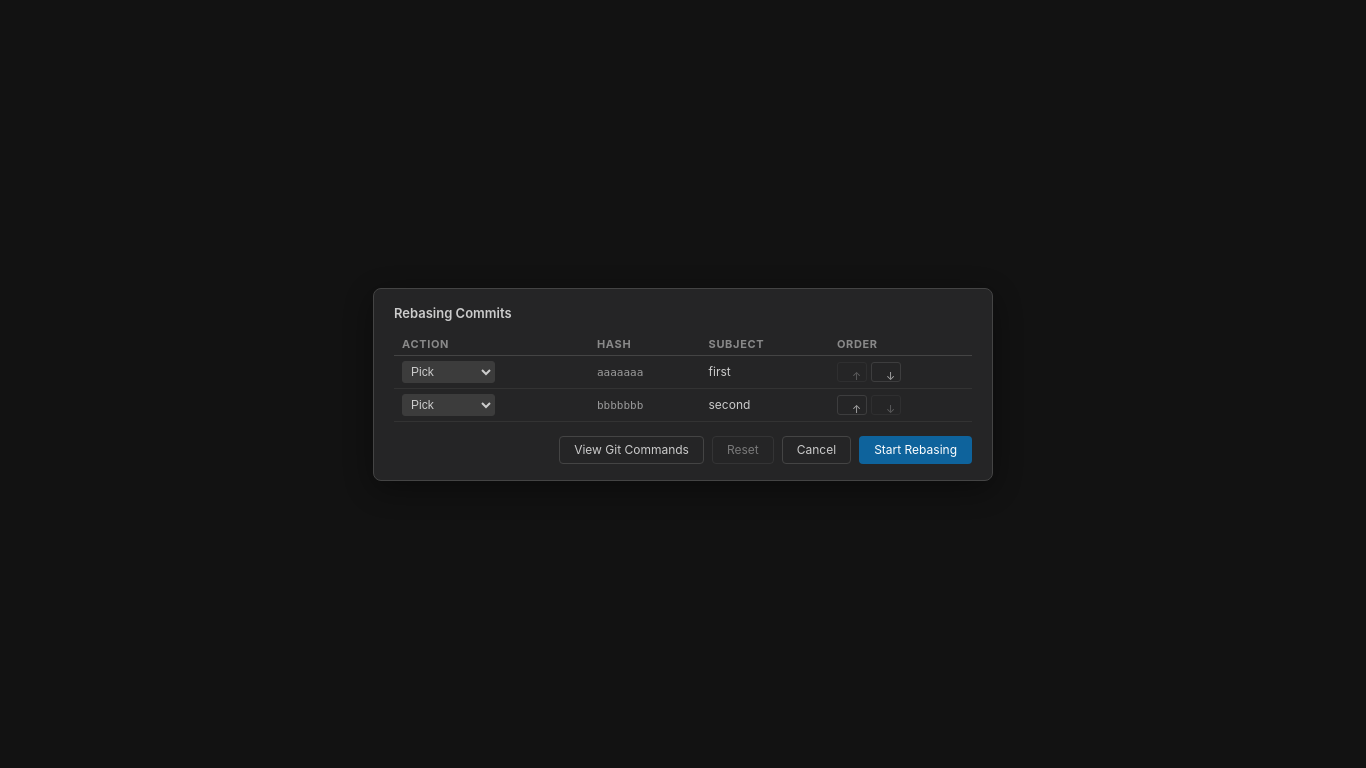
InteractiveRebaseDialog › previews the generated todo on request
expect the text "first" is shown: met, box 708,364 -> 731,379
Select "Drop" in the dropdown named "Action for bbbbbbb" at x=448, y=404, box 402,394 -> 495,416
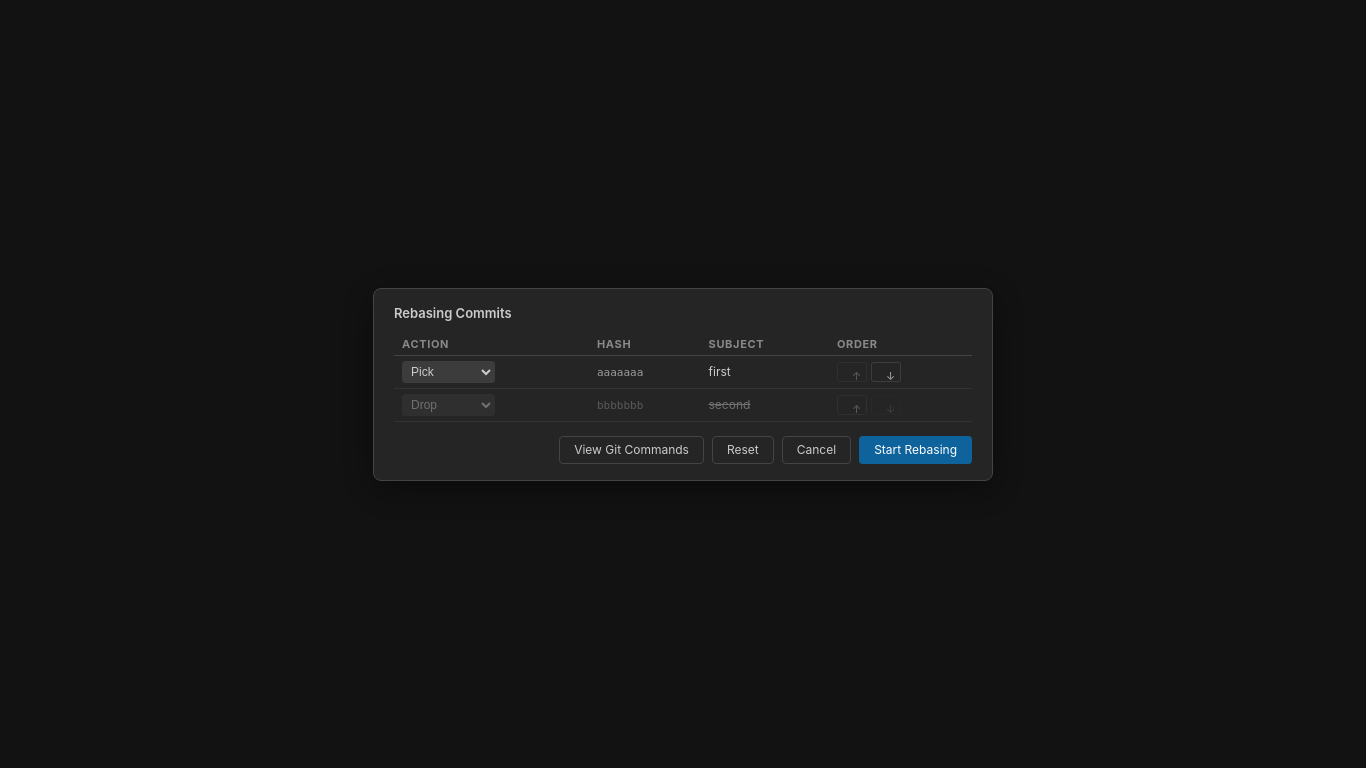
Click the button "View Git Commands" at x=632, y=450, box 559,436 -> 704,464
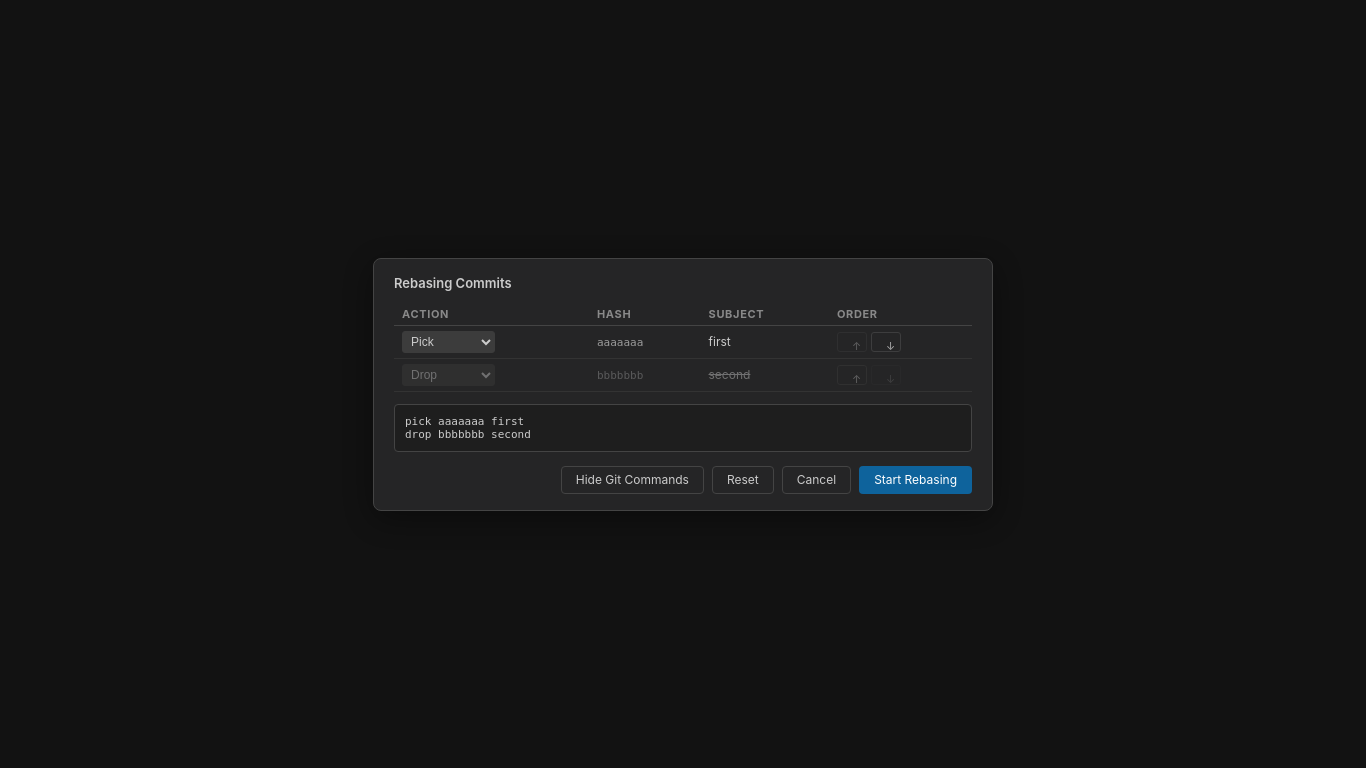
expect the text named "Generated rebase todo" shows "pick aaaaaaa first": met, box 405,414 -> 531,440
expect the text named "Generated rebase todo" shows "drop bbbbbbb second": met, box 405,414 -> 531,440
